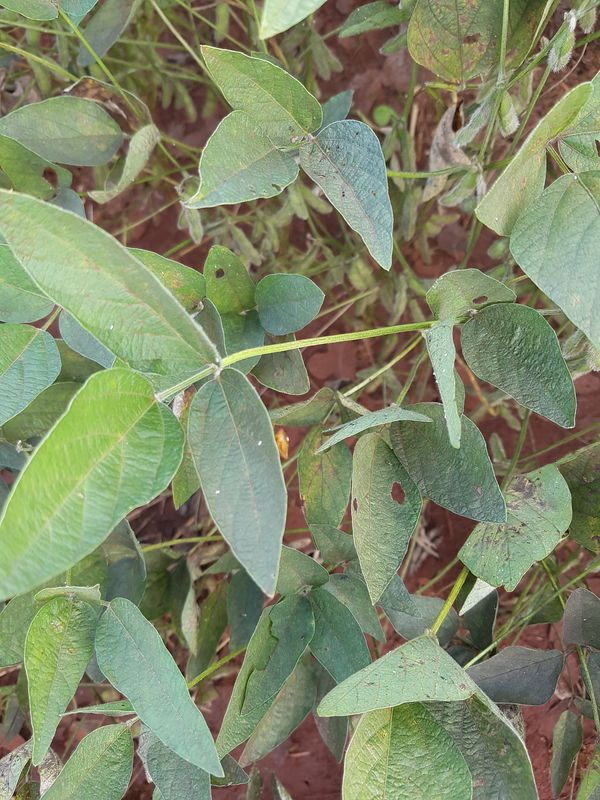Euschistus_heros_adulto: (265, 422, 299, 464)
